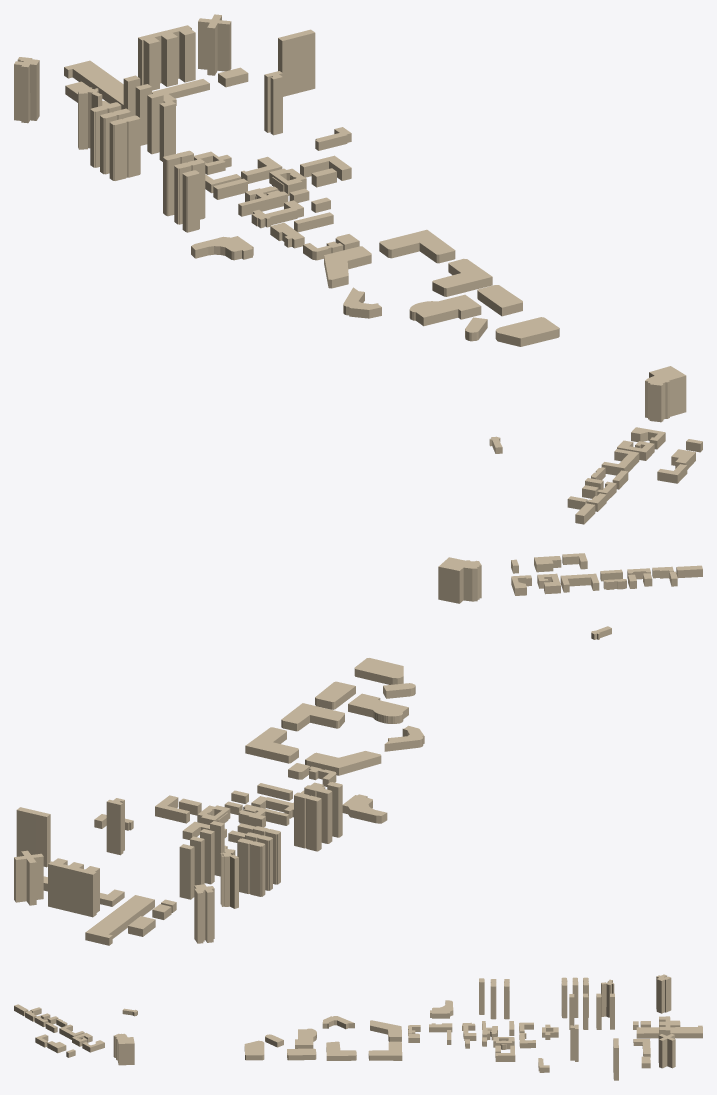
The model's file is overview-estimated--3_0.glb.
The picture shows the model from 3 angles, top to bottom: view 1: azimuth 30°, elevation 25°; view 2: azimuth 150°, elevation 25°; view 3: azimuth 270°, elevation 25°; orthographic projection. The views are drawn at different scales.
Bounding box in the file's own units: 385 × 78.07 × 1490.
